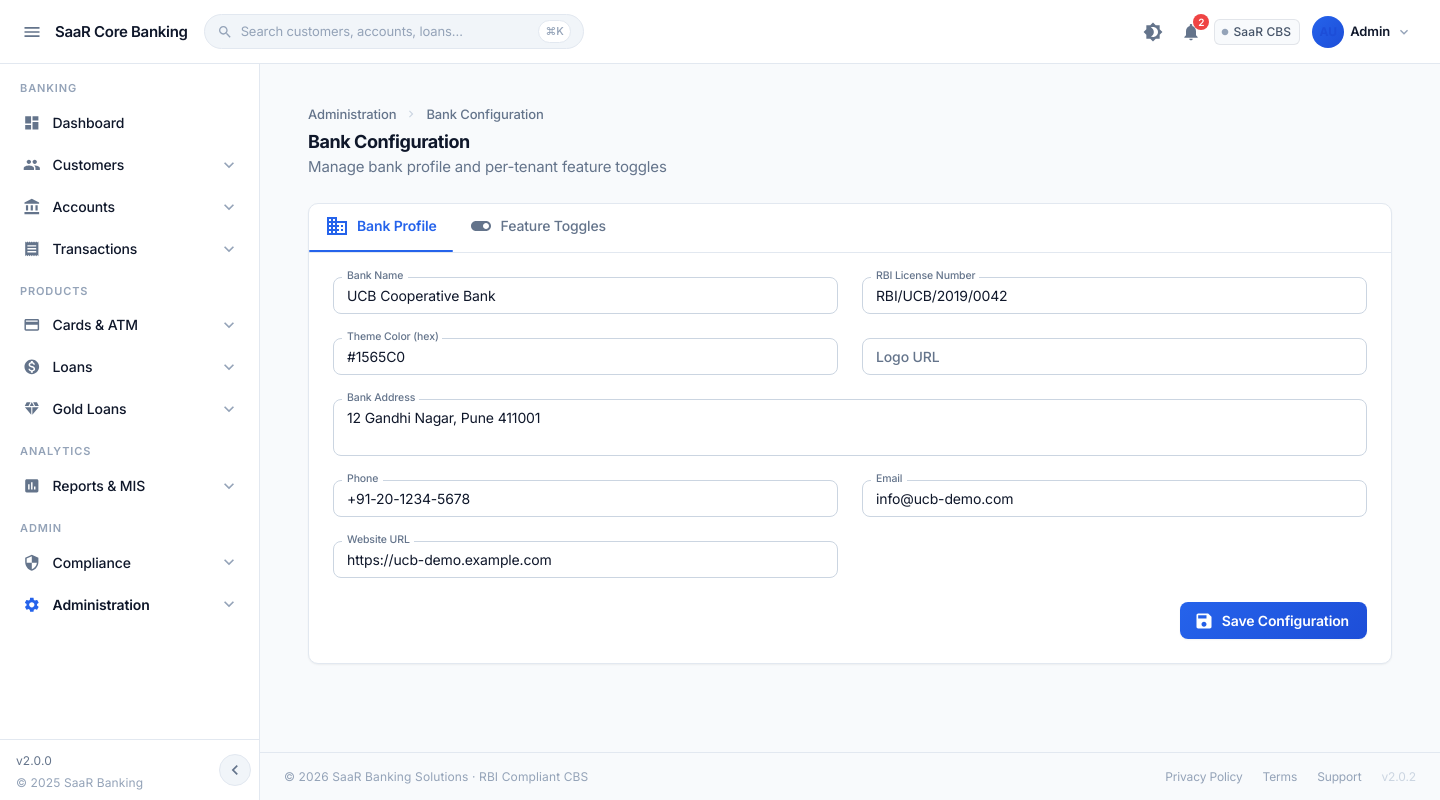
Scenario: [REGRESSION] Bank Configuration — Bank Profile Tab › shows error alert when save fails
The image size is (1440, 800).
Click the button with aria-label "Save bank configuration". click: (1274, 621)
box: [1180,602,1367,639]
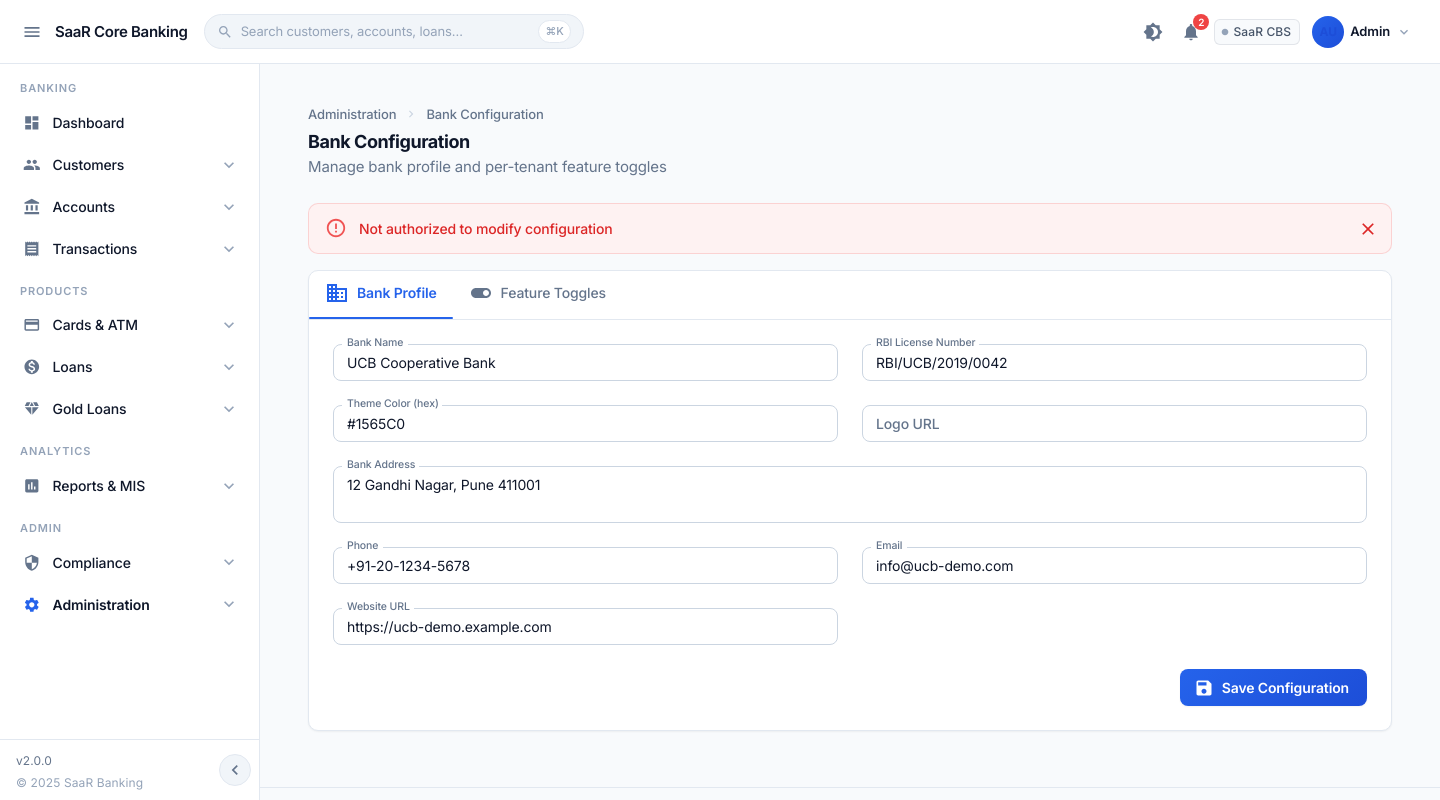
expect the text "Not authorized to modify configuration" is shown: met, box [359,220,612,237]
